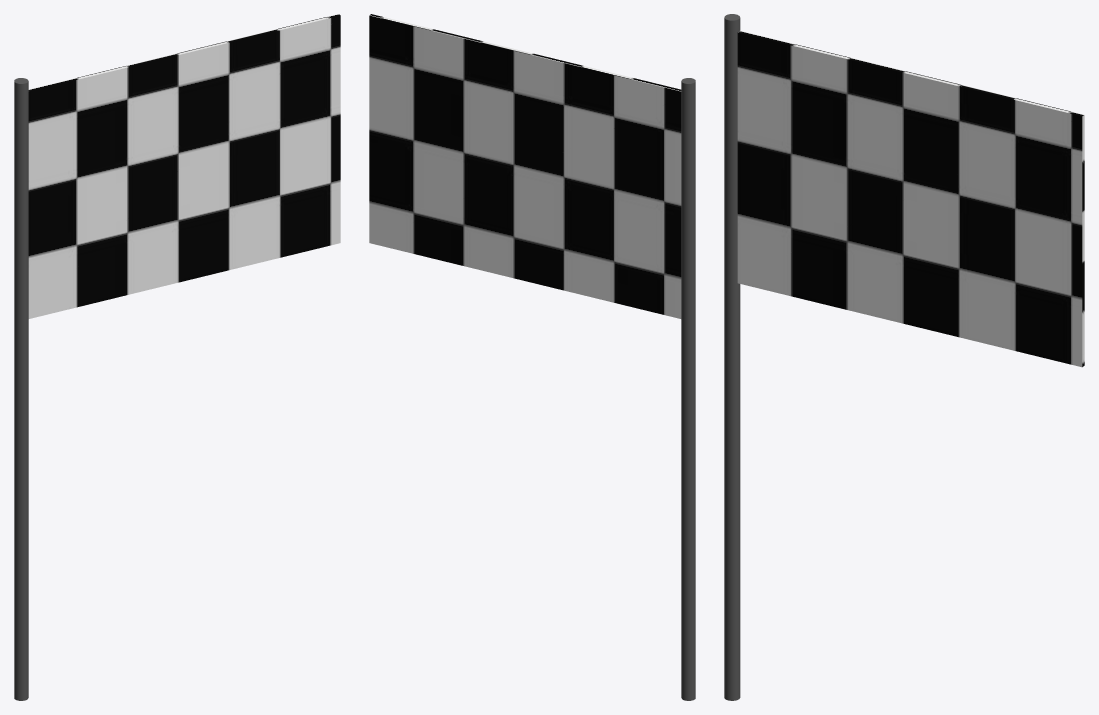
Rendered from Vlag.fbx.
The picture shows the model from 3 angles, left to right: view 1: azimuth 30°, elevation 25°; view 2: azimuth 150°, elevation 25°; view 3: azimuth 330°, elevation 25°; orthographic projection. The views are drawn at different scales.
Visible parts, largest first — view 1: pCube1, pCylinder1; view 2: pCube1, pCylinder1; view 3: pCube1, pCylinder1.
Boxes of the visible parts, bbox=[...] form: pCube1: bbox=[28, 14, 340, 318]; pCylinder1: bbox=[14, 78, 28, 700]; pCube1: bbox=[369, 14, 681, 318]; pCylinder1: bbox=[681, 78, 695, 700]; pCube1: bbox=[737, 31, 1084, 367]; pCylinder1: bbox=[724, 14, 740, 700].
Bounding box in the file's own units: 3.4 × 6.17 × 0.1308.
Materials: 2 (1 with a texture image).
